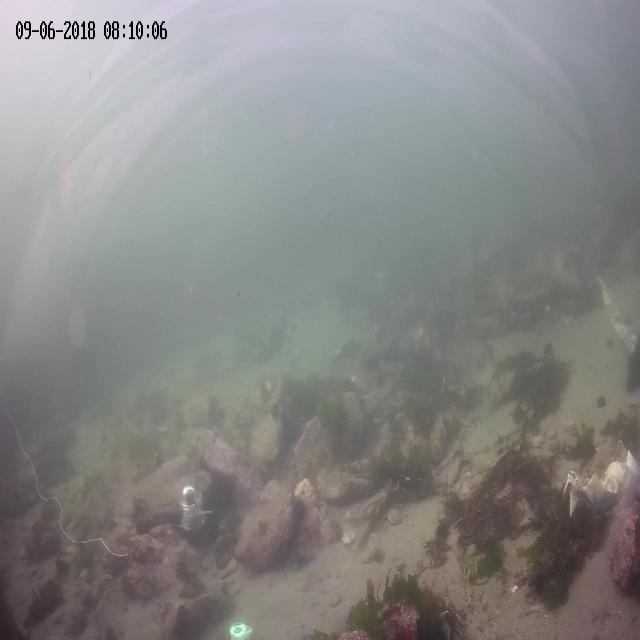scallop: (386, 502, 404, 526), (530, 430, 542, 448), (394, 556, 406, 572), (563, 416, 574, 431), (546, 422, 556, 438)
starfish: (304, 514, 320, 534)
